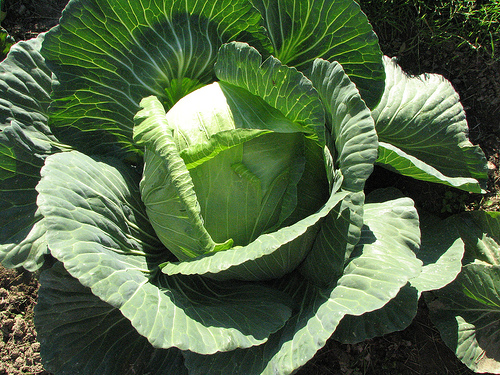cabbage: (140, 82, 327, 265)
